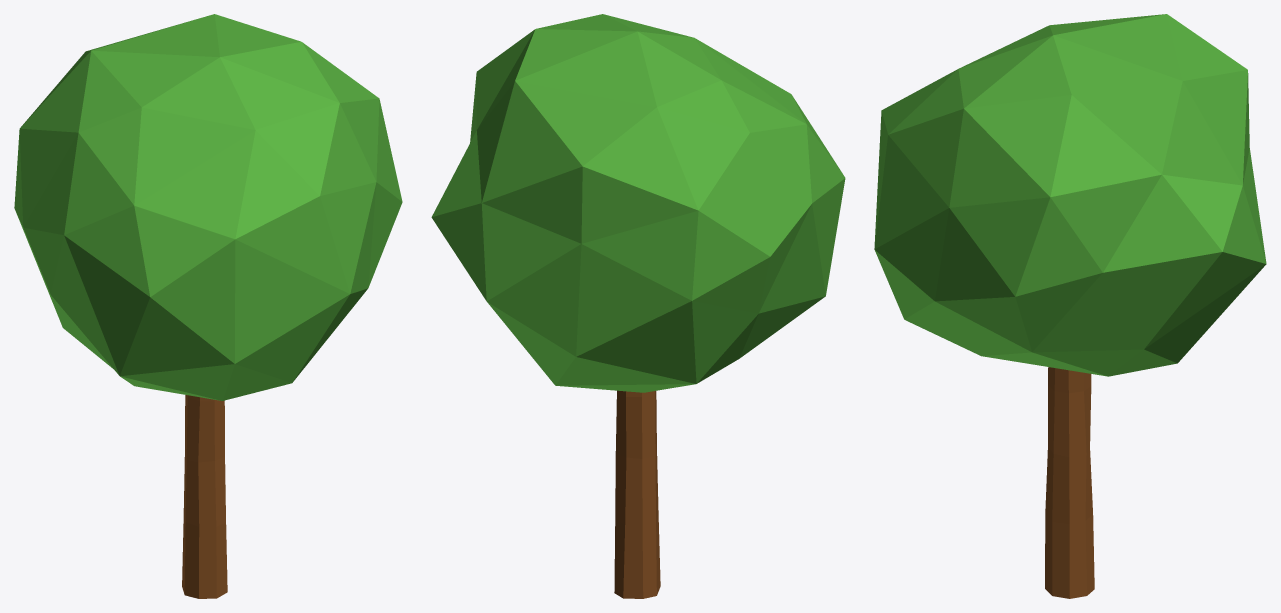
File: tree6.fbx
The picture shows the model from 3 angles, left to right: view 1: azimuth 30°, elevation 25°; view 2: azimuth 150°, elevation 25°; view 3: azimuth 270°, elevation 25°; orthographic projection. The views are drawn at different scales.
Parts seen in each view (by area): view 1: tree.006; view 2: tree.006; view 3: tree.006.
Part boxes in pixels (x1,y1,x2,y2): tree.006: [14, 14, 402, 598]; tree.006: [431, 14, 845, 598]; tree.006: [874, 14, 1266, 598].
Bounding box in the file's own units: 1925 × 1923 × 3020.
